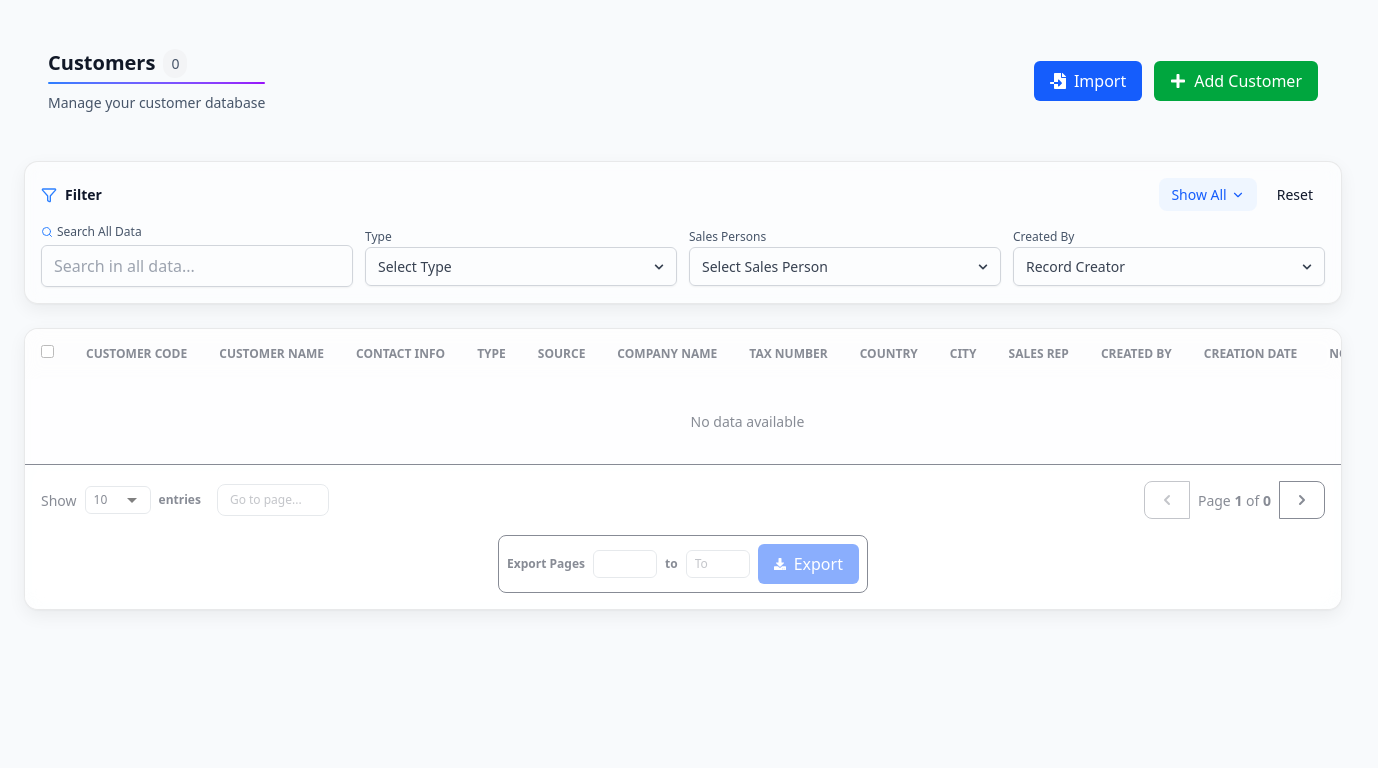
Scenario: Customers Page › resets filters when Reset button is clicked
Step 1. Type "Ahmed" into the field with placeholder "Search in all data..." → (197, 266), box [41,245,353,287]
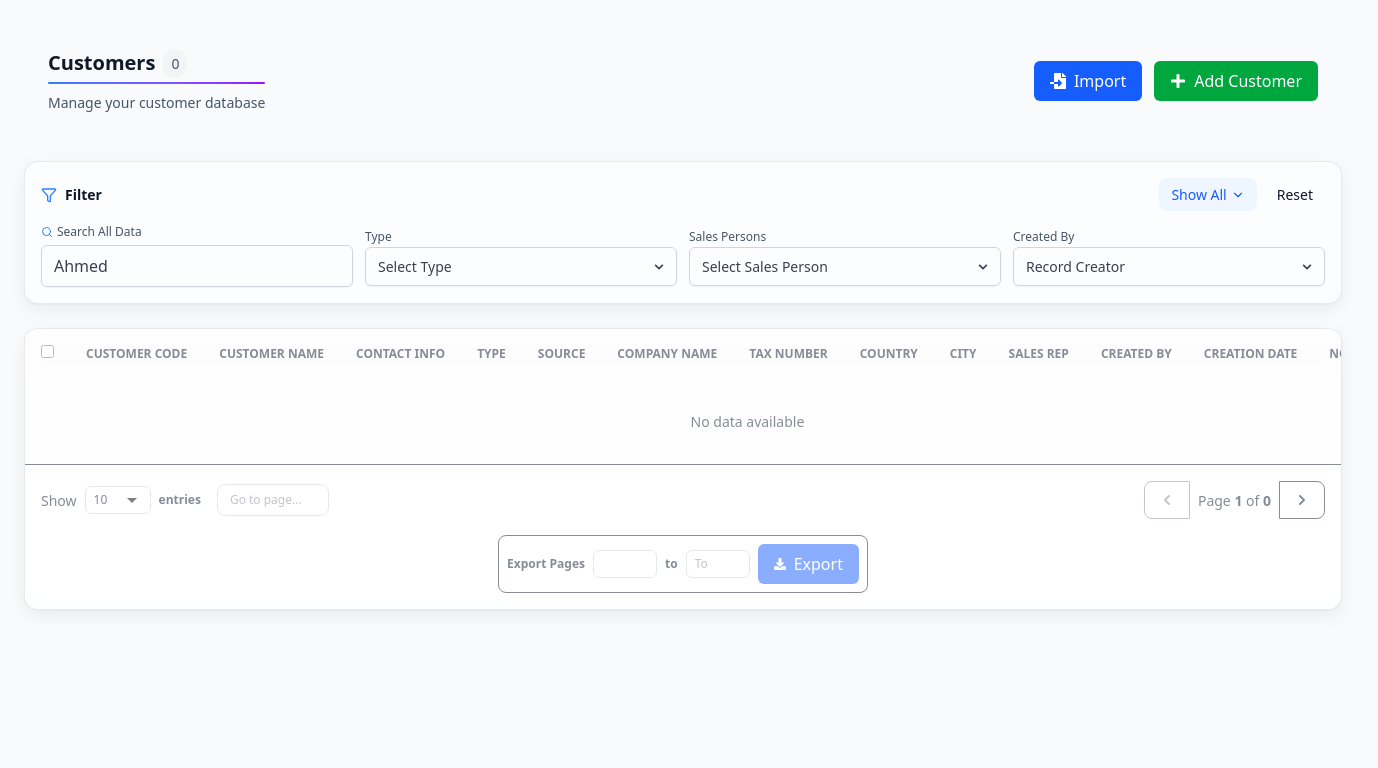
Step 2. Click the button "Reset" → click(1295, 194), box [1265,178,1325,211]
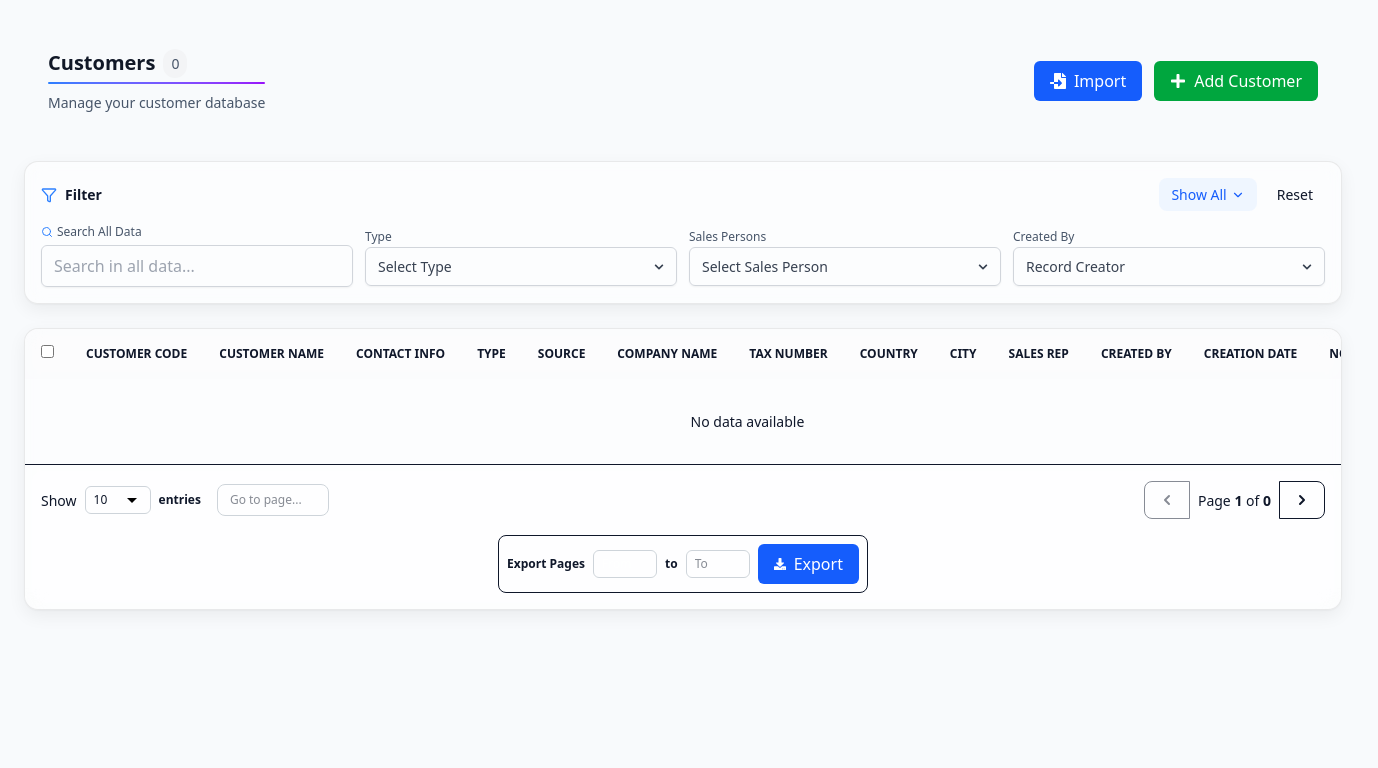
Expected: the field with placeholder "Search in all data..." is empty, [41,245,353,287]
